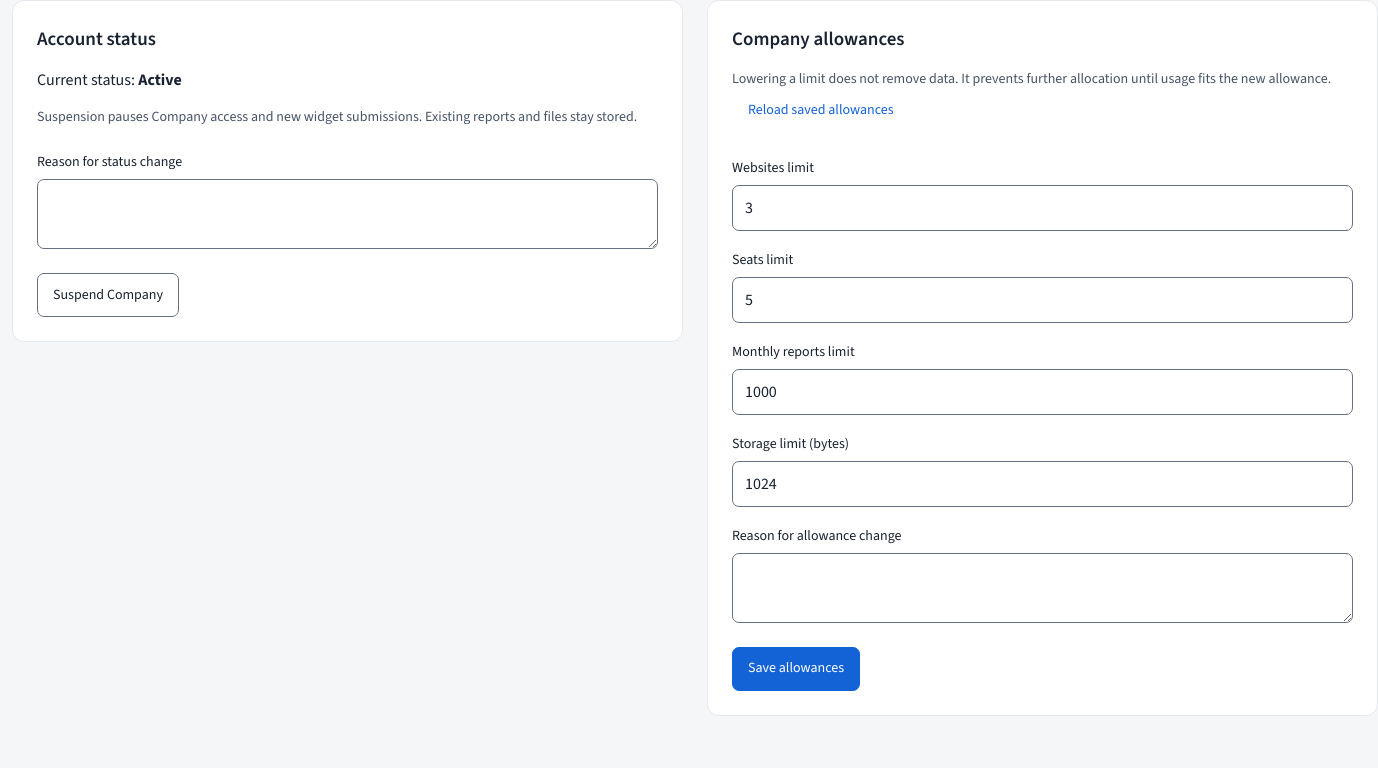
Scenario: keeps optimistic-conflict drafts until explicitly reloading saved allowances
Replace the text in the number field labelled "Websites limit" with "10". click: (1042, 208)
box: [732,184,1353,230]
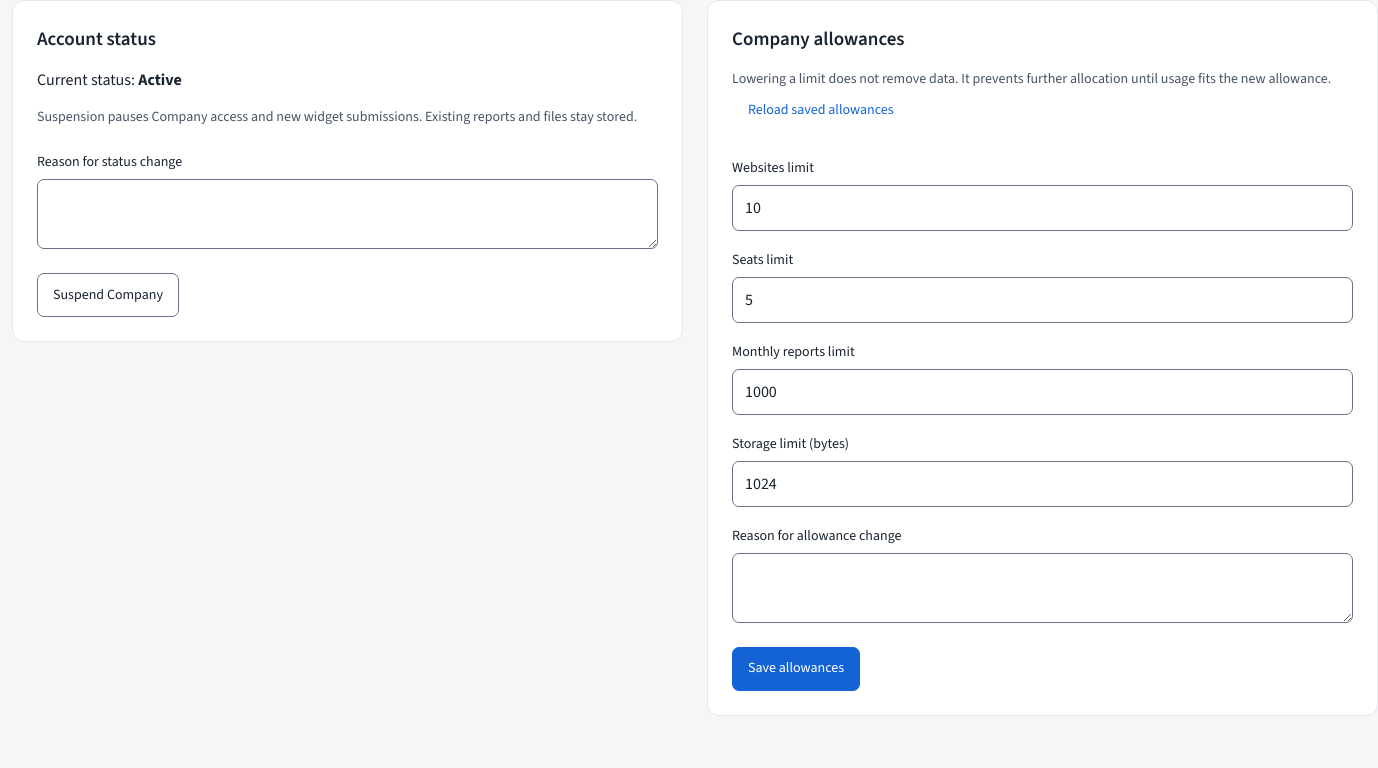
Type "Requested" into the text box labelled "Reason for allowance change". click: (1042, 588)
box: [732,552,1353,622]
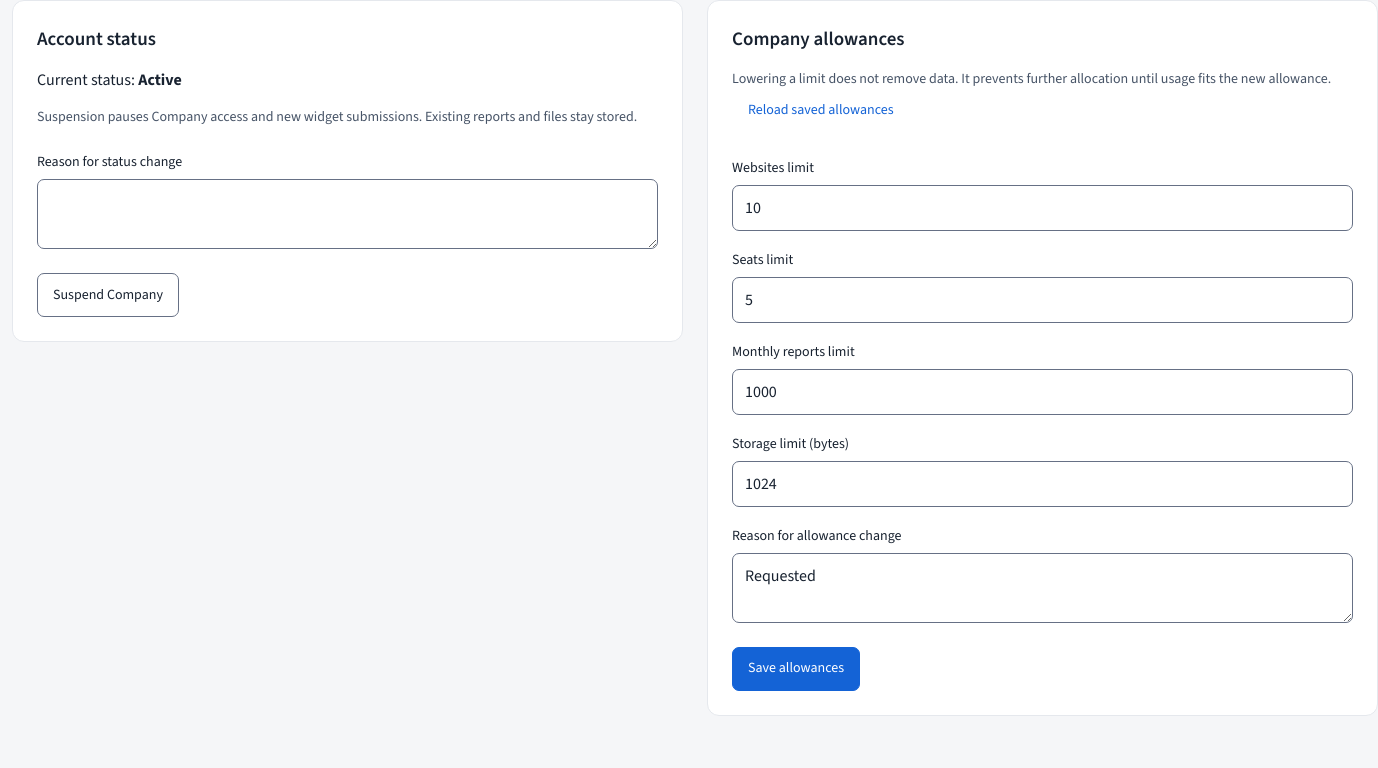
Click the button "Save allowances". click: (796, 668)
box: [732,646,860,690]
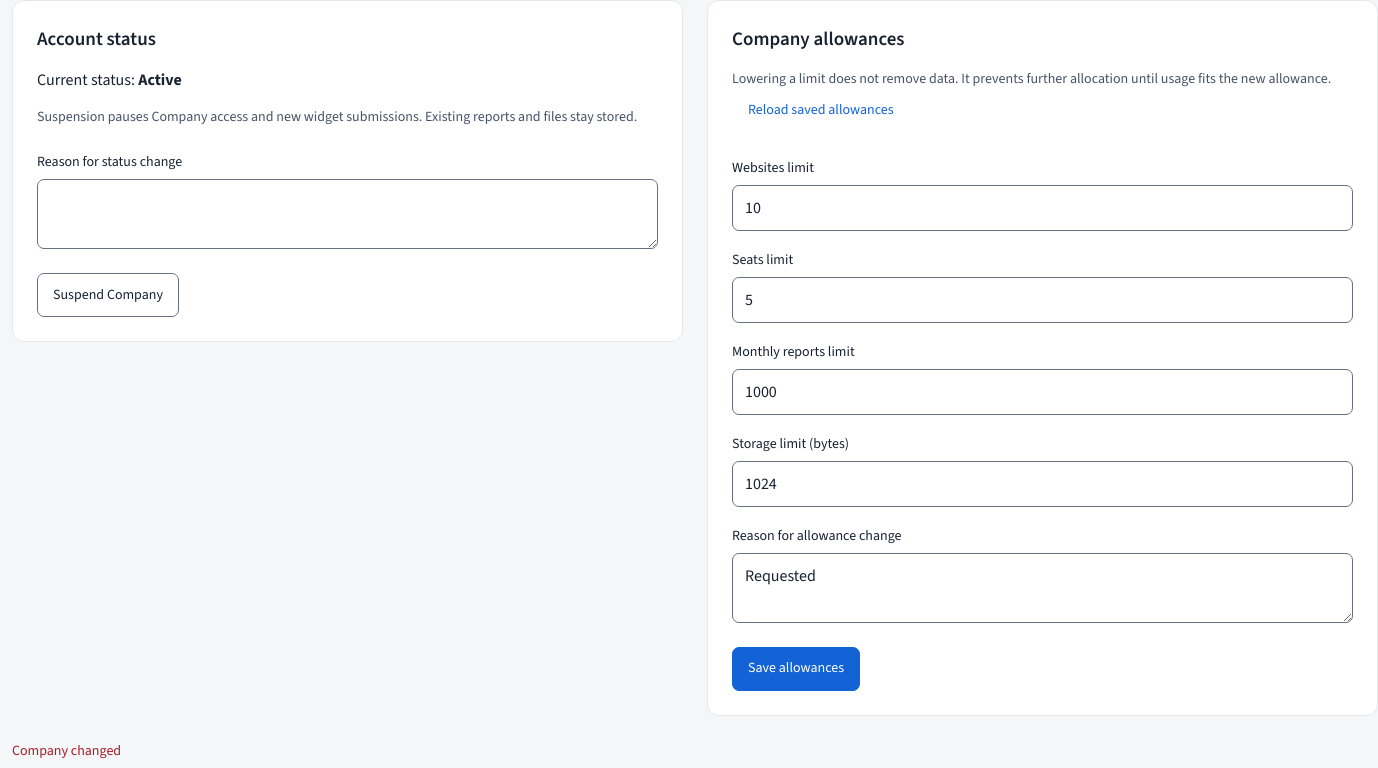
Expected: the message "Company changed" is shown, [12,740,121,760]
Click the button "Reload saved allowances". click: (821, 110)
box: [732,88,910,132]
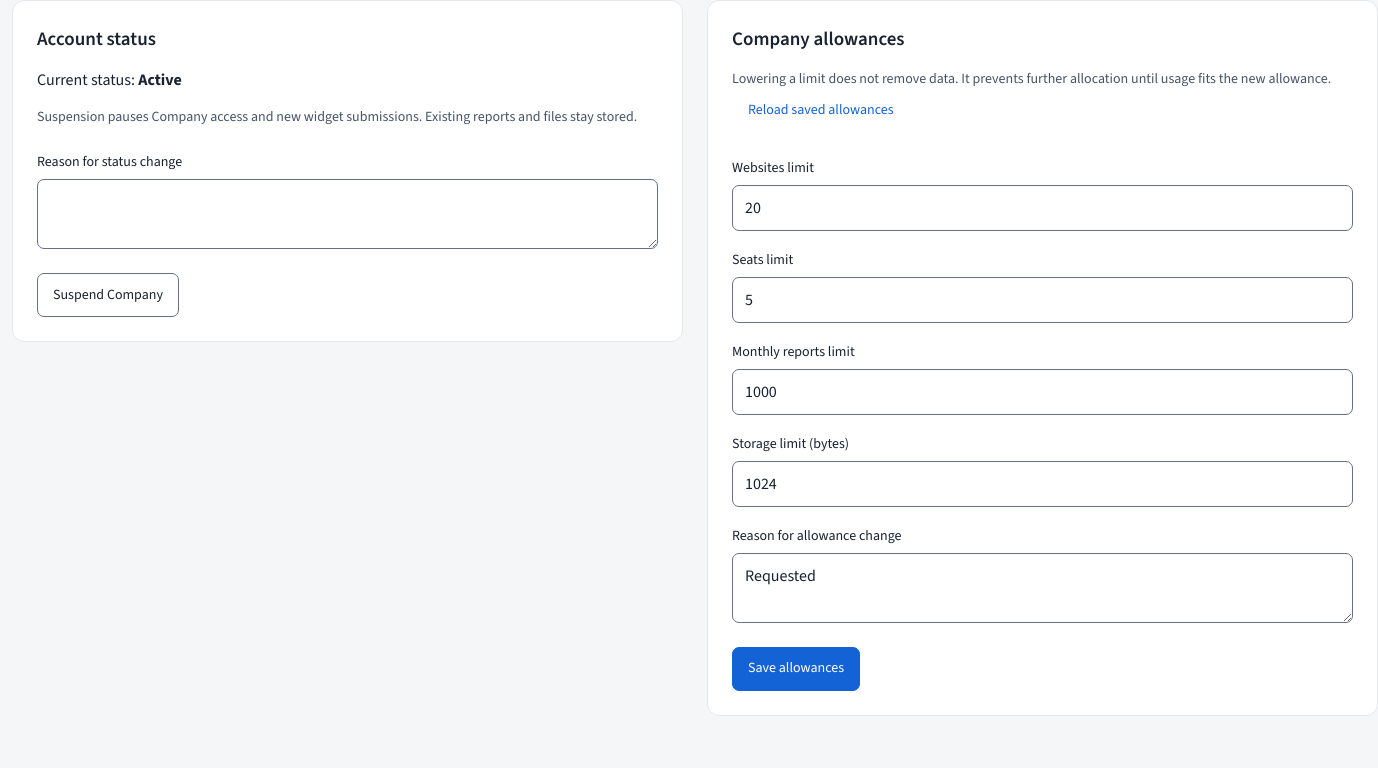
Expected: the number field showing "20" is shown, [732,184,1353,230]
Expected: the message "Company changed" is gone
